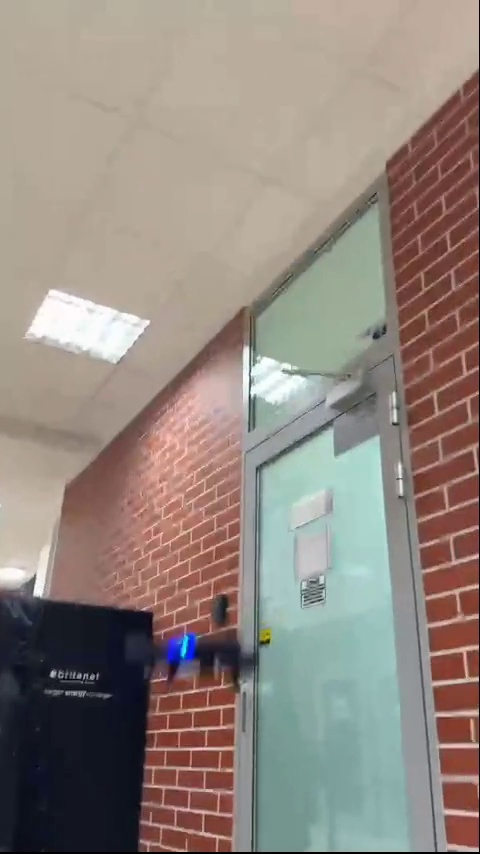drone: (126, 631, 262, 686)
